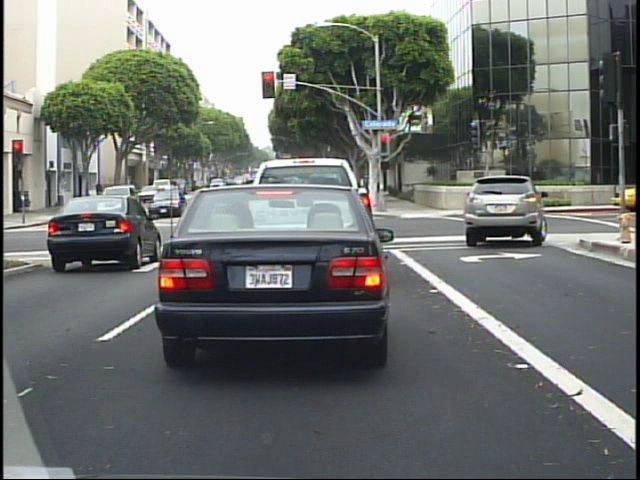person: (92, 177, 108, 209)
